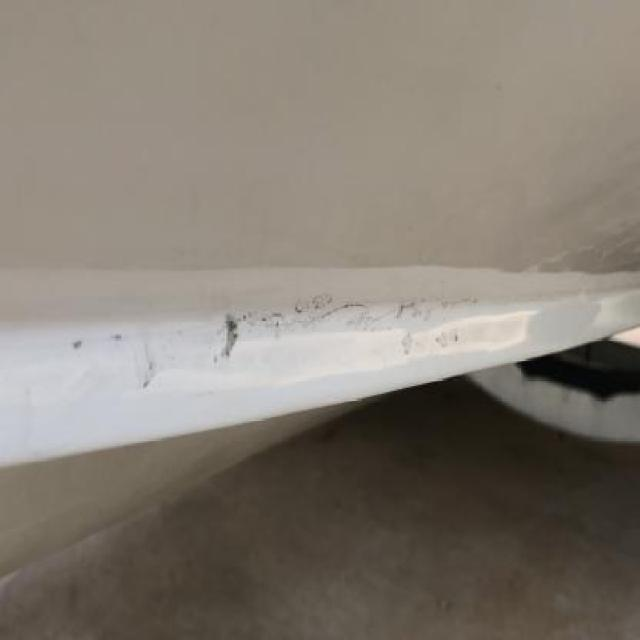crack: (217, 302, 458, 336)
